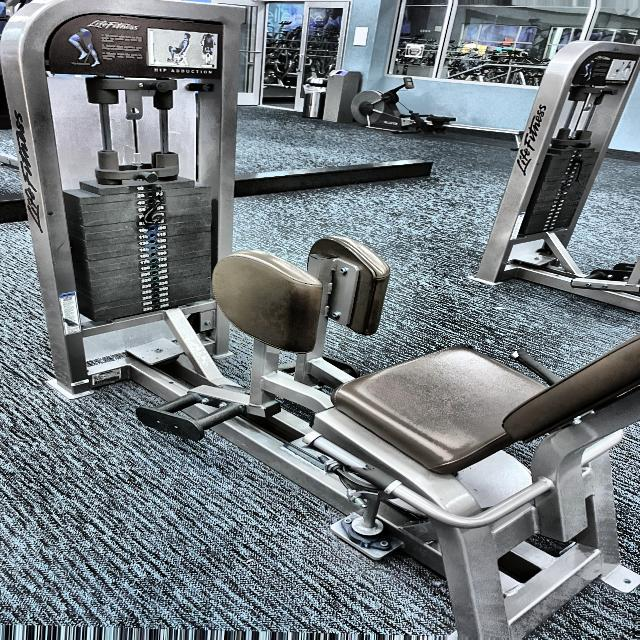hip_adduction_machine: (168, 168, 466, 470), (67, 15, 222, 76), (148, 65, 222, 76)
